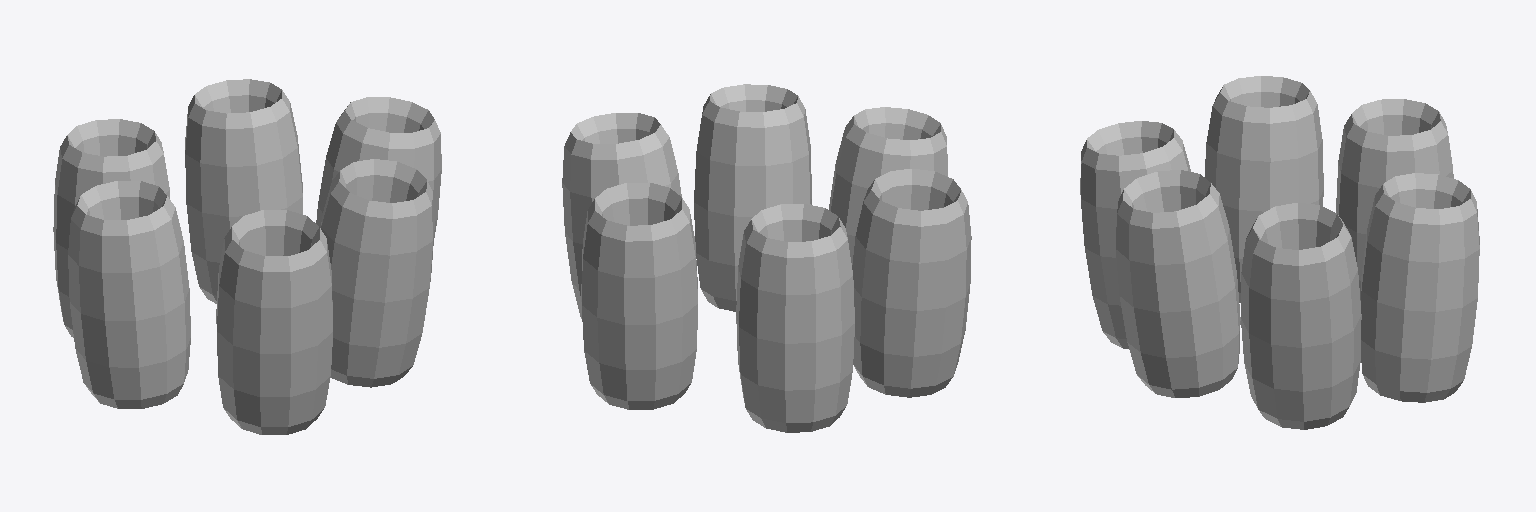
File: Spaceship5.obj
3 views of the same model, side by side, from view 1: azimuth 30°, elevation 25°; view 2: azimuth 150°, elevation 25°; view 3: azimuth 270°, elevation 25° (orthographic).
Visible parts, largest first — view 1: group[number redacted]; view 2: group[number redacted]; view 3: group[number redacted].
Part boxes in pixels (left/top/right/bottom): group[number redacted]: left=53, top=79, right=441, bottom=434; group[number redacted]: left=562, top=84, right=971, bottom=432; group[number redacted]: left=1080, top=76, right=1479, bottom=429.
Bounding box in the file's own units: 0.0718 × 0.0381 × 0.0661.